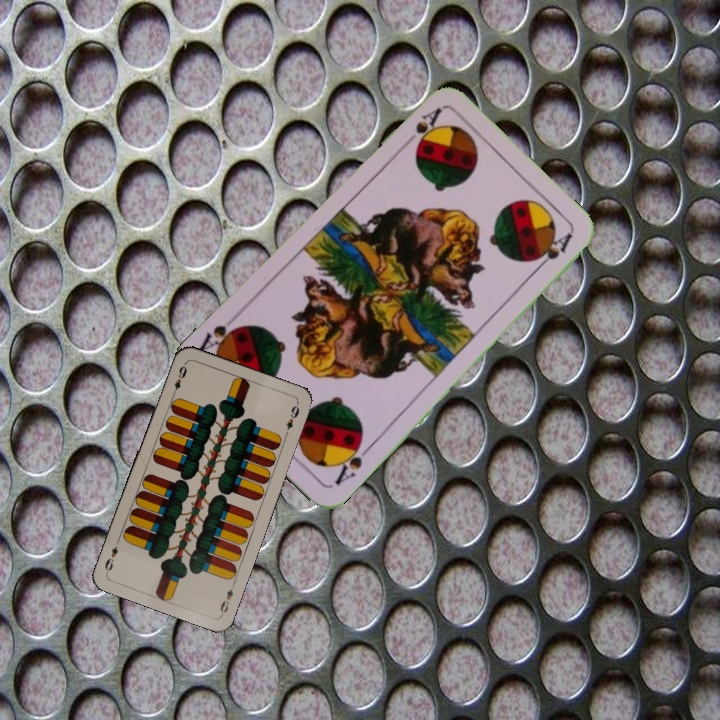E9: (168, 359, 190, 399), (216, 578, 238, 617)
SA: (330, 435, 374, 488), (397, 104, 444, 149)
